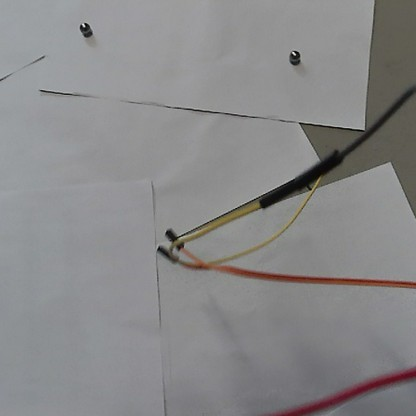ironball: (285, 47, 301, 64), (78, 20, 89, 35)
